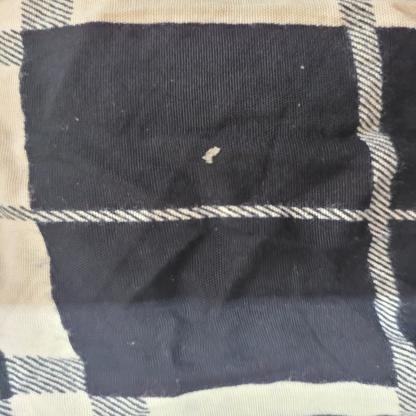spot: (195, 135, 242, 169)
